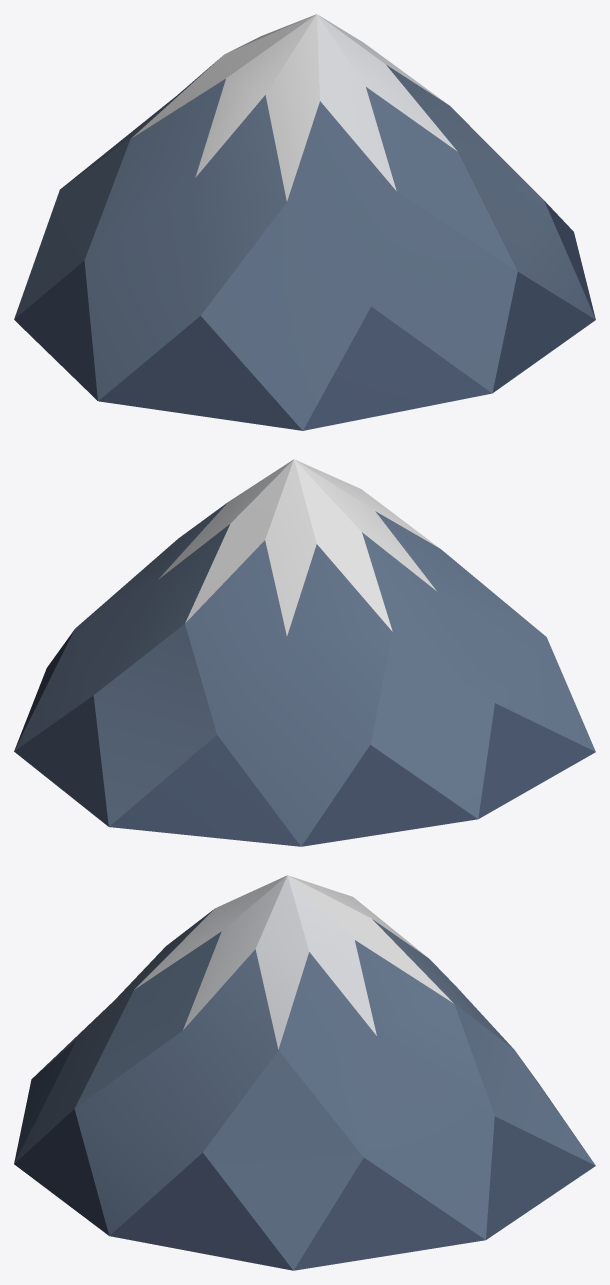
File: MountainWide.fbx
3 views of the same model, one above another, from view 1: azimuth 30°, elevation 25°; view 2: azimuth 150°, elevation 25°; view 3: azimuth 270°, elevation 25° (orthographic). The views are drawn at different scales.
Visible parts, largest first — view 1: SM_Env_MountainWide; view 2: SM_Env_MountainWide; view 3: SM_Env_MountainWide.
Part boxes in pixels (bbox=[...]): SM_Env_MountainWide: bbox=[14, 14, 595, 430]; SM_Env_MountainWide: bbox=[14, 459, 595, 846]; SM_Env_MountainWide: bbox=[14, 875, 595, 1270].
Bounding box in the file's own units: 9.78 × 5 × 9.65.
